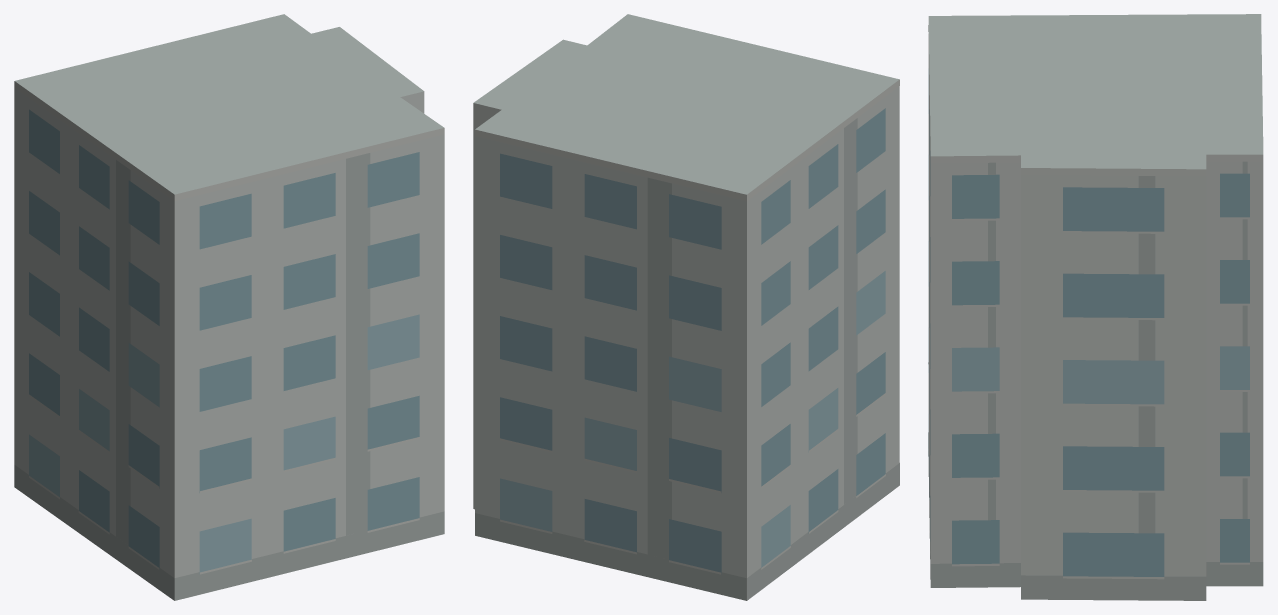
File: survey-upis-33020633.glb
3 renders of one model, left to right at view 1: azimuth 30°, elevation 25°; view 2: azimuth 150°, elevation 25°; view 3: azimuth 270°, elevation 25°, orthographic. The views are drawn at different scales.
Visible parts, largest first — view 1: survey-upis-33020633.tmp; view 2: survey-upis-33020633.tmp; view 3: survey-upis-33020633.tmp.
Part boxes in pixels (x1,y1,x2,y2): survey-upis-33020633.tmp: [14, 14, 444, 600]; survey-upis-33020633.tmp: [473, 14, 899, 600]; survey-upis-33020633.tmp: [928, 14, 1263, 600].
Size of the model in its own units: 11.5 by 14.9 by 10.49.
